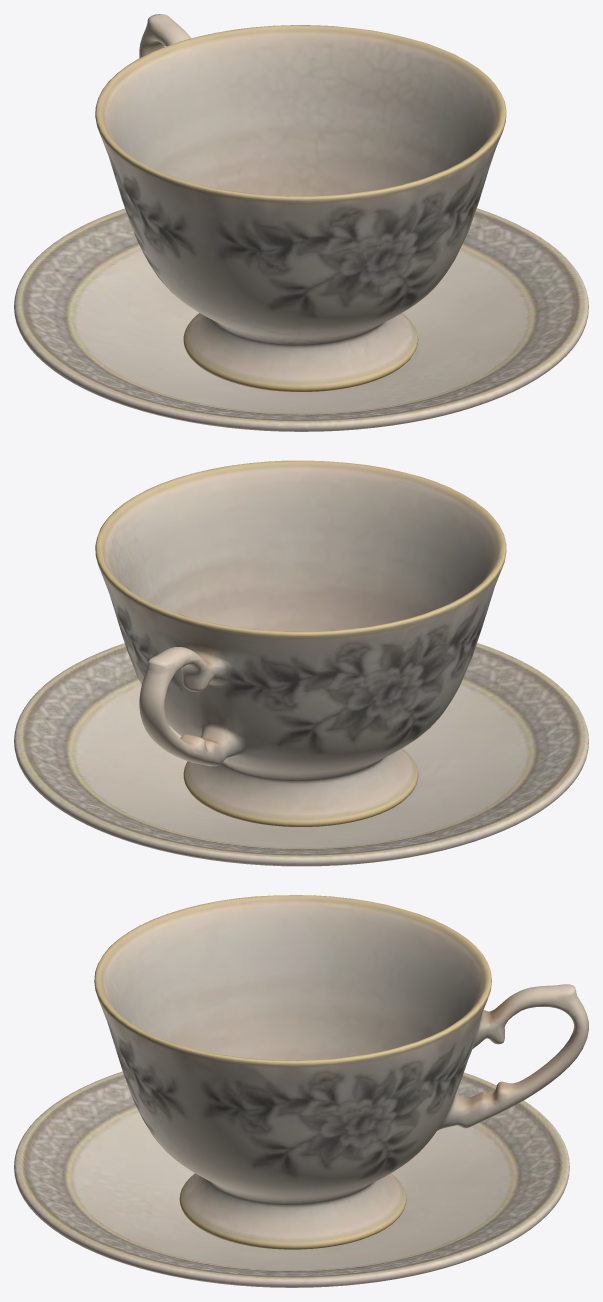
The model's file is teetasse.glb.
The picture shows the model from 3 angles, top to bottom: view 1: azimuth 30°, elevation 25°; view 2: azimuth 150°, elevation 25°; view 3: azimuth 270°, elevation 25°; orthographic projection. The views are drawn at different scales.
Parts seen in each view (by area): view 1: tea_cup, tea_saucer; view 2: tea_cup, tea_saucer; view 3: tea_cup, tea_saucer.
Boxes of the visible parts, x1=… form: tea_cup: x1=95, y1=14, x2=506, y2=391; tea_saucer: x1=14, y1=208, x2=588, y2=431; tea_cup: x1=95, y1=460, x2=506, y2=826; tea_saucer: x1=14, y1=643, x2=588, y2=866; tea_cup: x1=94, y1=895, x2=588, y2=1249; tea_saucer: x1=14, y1=1071, x2=569, y2=1287.
Size of the model in its own units: 0.1486 by 0.0704 by 0.1537.
2 materials, 2 textured.
